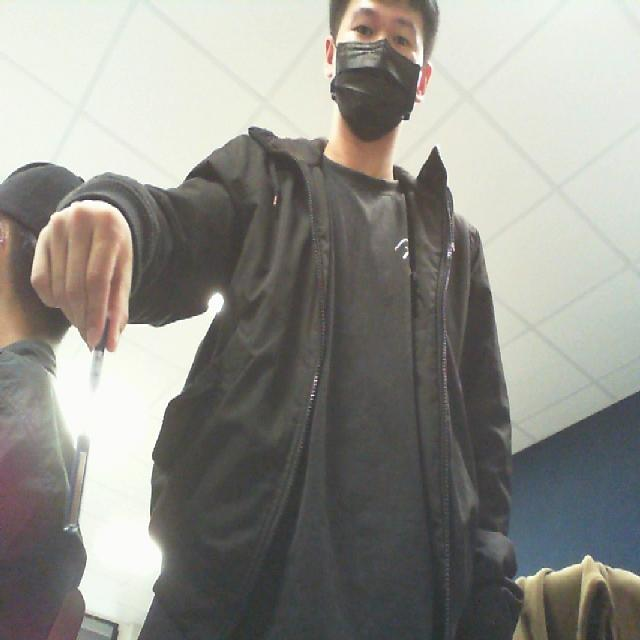Pen: (59, 322, 120, 553)
